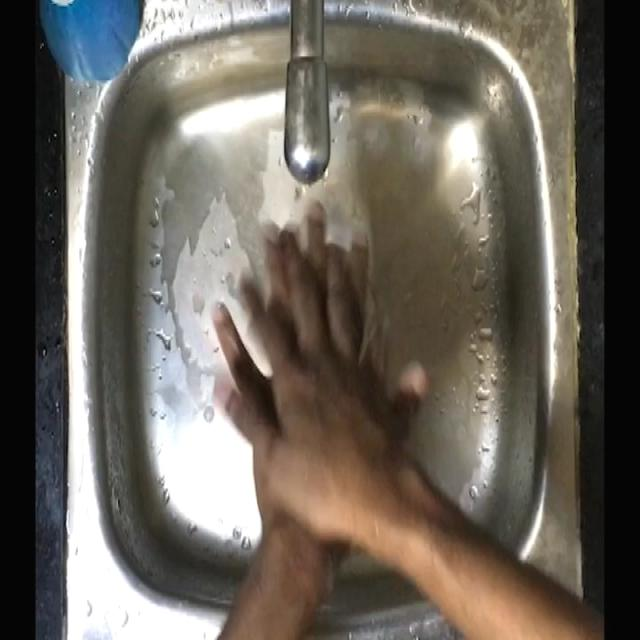step_2: (200, 182, 434, 552)
